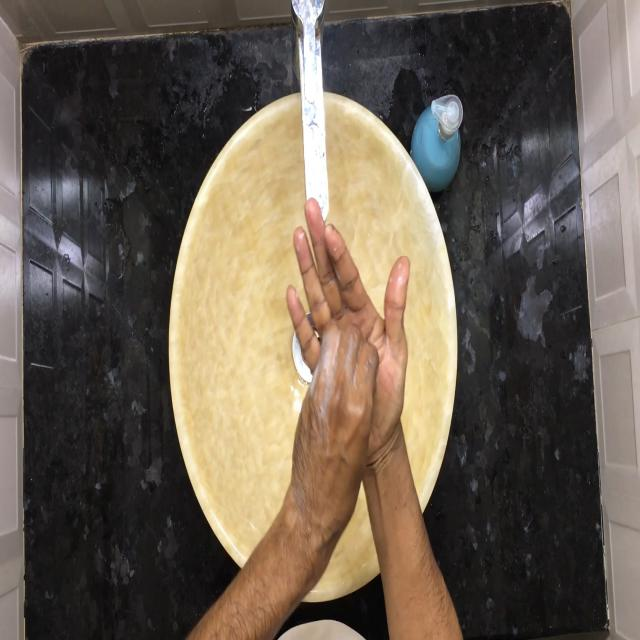step_6: (280, 178, 414, 525)
